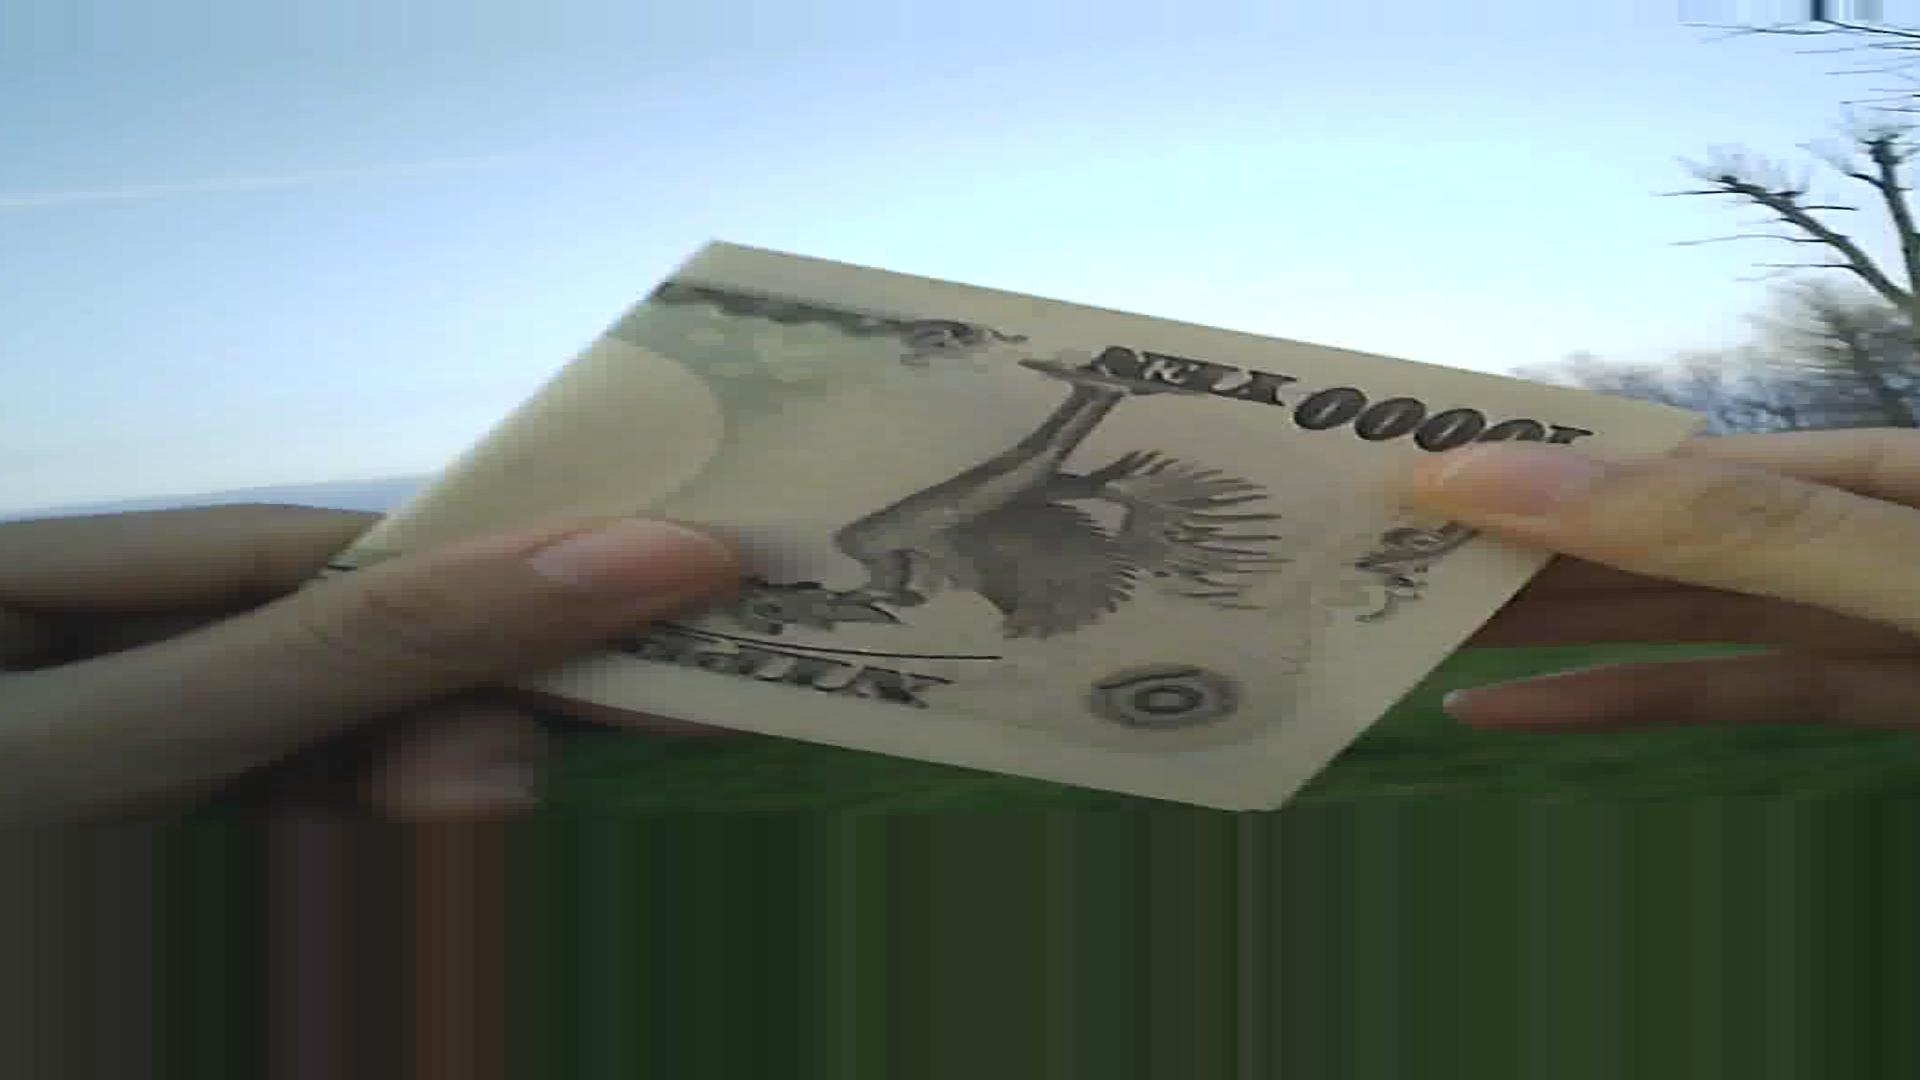10,000 Yen: (291, 207, 1720, 764)
